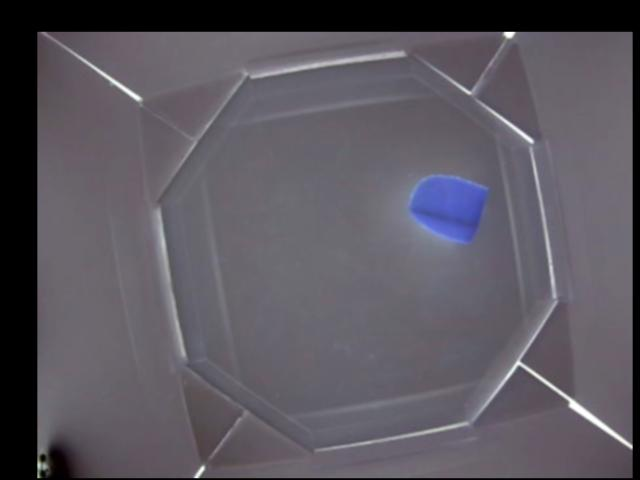Potato: (411, 172, 487, 245)
